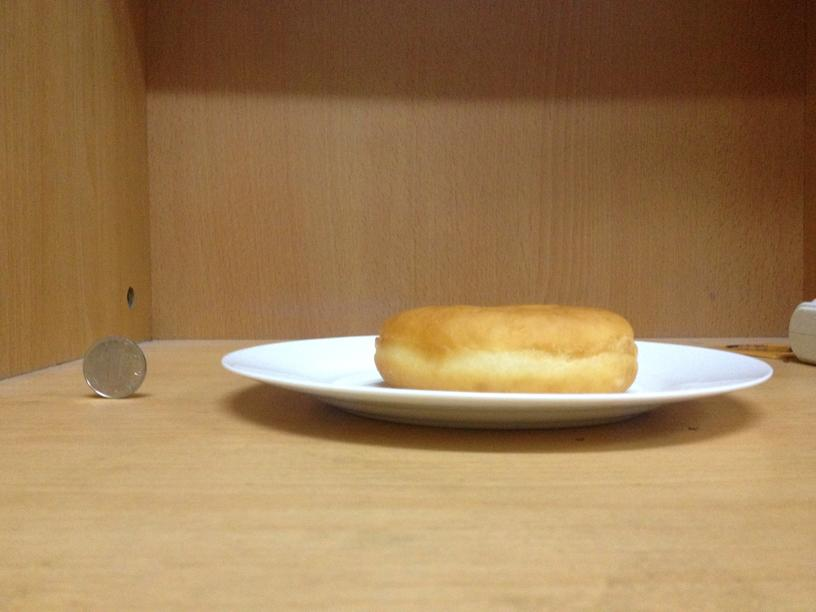coin: (82, 339, 147, 398)
doughnut: (370, 300, 637, 391)
